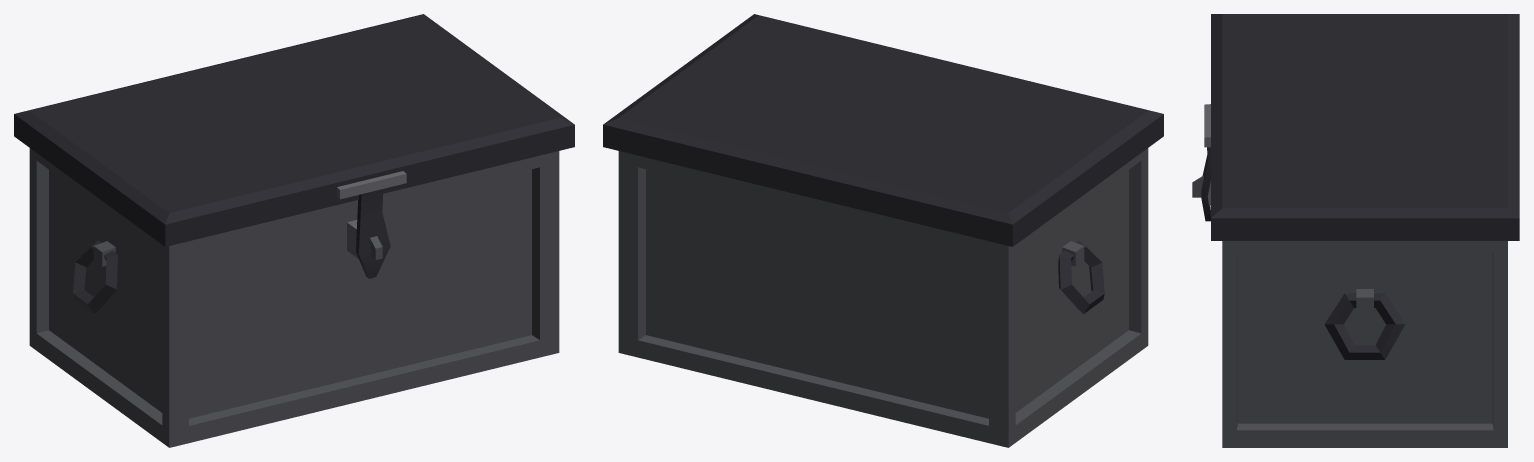
Rendered from Chest.fbx.
The picture shows the model from 3 angles, left to right: view 1: azimuth 30°, elevation 25°; view 2: azimuth 150°, elevation 25°; view 3: azimuth 270°, elevation 25°; orthographic projection. The views are drawn at different scales.
Visible parts, largest first — view 1: pCube789; view 2: pCube789; view 3: pCube789.
Part boxes in pixels (box(x1,y1,x2,y2)): pCube789: box(14, 14, 574, 447); pCube789: box(603, 14, 1163, 447); pCube789: box(1192, 14, 1519, 447).
Bounding box in the file's own units: 121 × 63.28 × 78.29.
